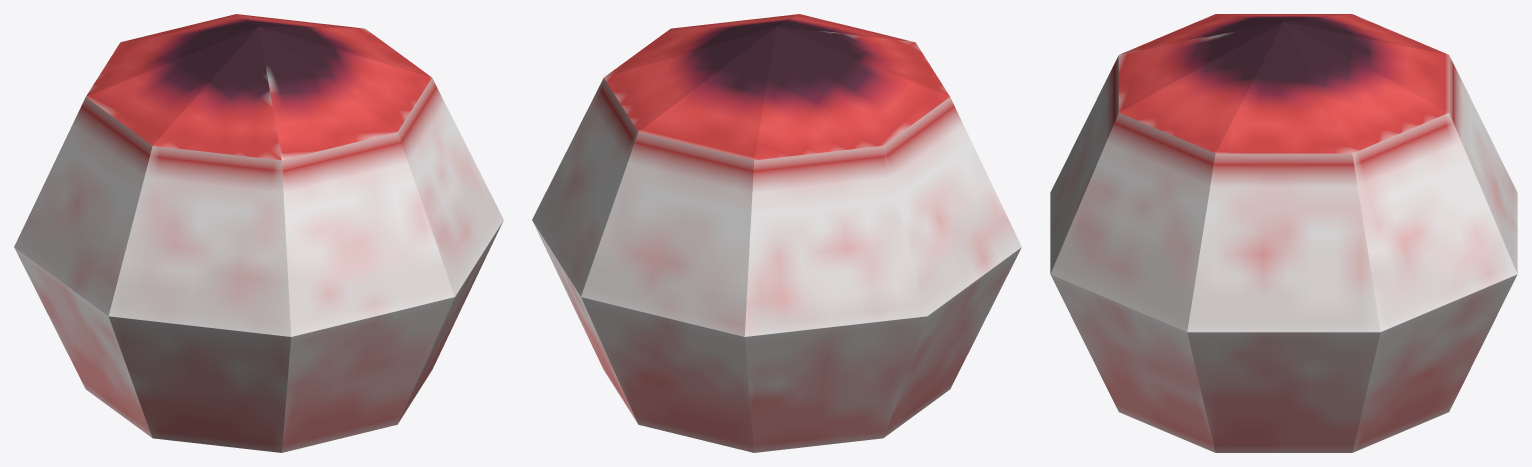
The model's file is eyeball.fbx.
3 views of the same model, side by side, from view 1: azimuth 30°, elevation 25°; view 2: azimuth 150°, elevation 25°; view 3: azimuth 270°, elevation 25° (orthographic). The views are drawn at different scales.
Visible parts, largest first — view 1: eyeball; view 2: eyeball; view 3: eyeball.
Part boxes in pixels (bbox=[...]): eyeball: bbox=[14, 14, 503, 452]; eyeball: bbox=[532, 14, 1021, 452]; eyeball: bbox=[1050, 14, 1517, 452].
Bounding box in the file's own units: 6.25 × 6.25 × 6.25.
Materials: 1 (1 with a texture image).
